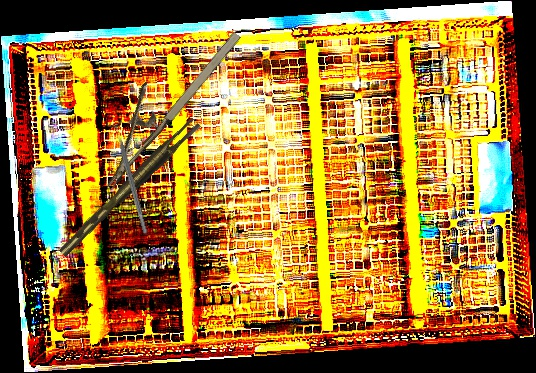Fixation Ring: (104, 117, 155, 237)
Needle Holder: (75, 10, 246, 191)
Tissue Forceps: (52, 117, 205, 257)
